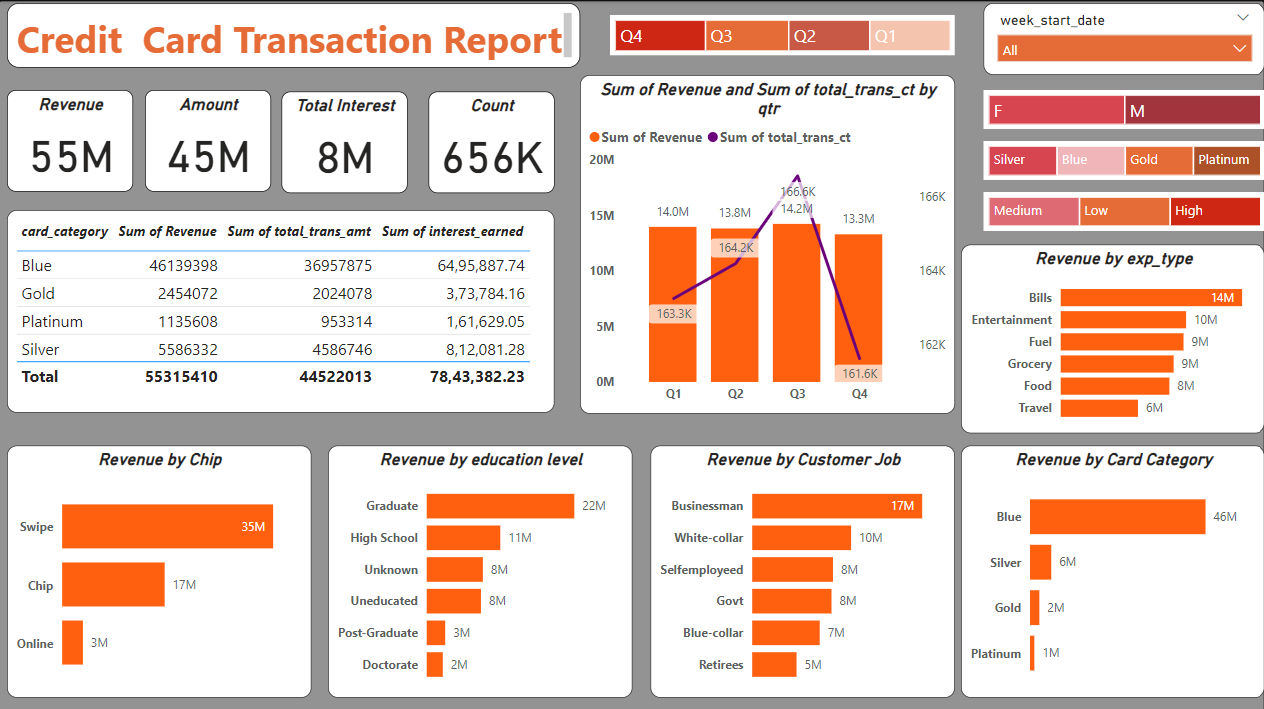

This screenshot's page, from the dashboard's own definition file:
{"tool":"powerbi","page":{"name":"CC transaction","canvas":[1280,720],"ordinal":1},"visuals":[{"type":"textbox","box":[9.1,3,578.4,65.1],"z":0},{"type":"lineStackedColumnComboChart","fields":{"Category":["public cc_detail.qtr"],"Y":["Sum(public cc_detail.Revenue)"],"Y2":["Sum(public cc_detail.total_trans_ct)"]},"box":[587.5,75.7,378.6,342.2],"z":1000},{"type":"barChart","title":"Revenue by exp_type","fields":{"Category":["public cc_detail.exp_type"],"Y":["Sum(public cc_detail.Revenue)"]},"box":[972.1,246.8,307.4,190.8],"z":2000},{"type":"barChart","title":"Revenue by education level","fields":{"Category":["public cust_detail.education_level"],"Y":["Sum(public cc_detail.Revenue)"]},"box":[333.1,449.7,307.4,254.4],"z":3000},{"type":"barChart","title":"Revenue by Customer Job","fields":{"Category":["public cust_detail.customer_job"],"Y":["Sum(public cc_detail.Revenue)"]},"box":[658.7,449.7,307.4,254.4],"z":4000},{"type":"barChart","title":"Revenue by Card Category","fields":{"Category":["public cc_detail.card_category"],"Y":["Sum(public cc_detail.Revenue)"]},"box":[972.1,449.7,307.4,254.4],"z":5000},{"type":"barChart","title":"Revenue by Chip","fields":{"Category":["public cc_detail.use_chip"],"Y":["Sum(public cc_detail.Revenue)"]},"box":[9.1,449.7,307,254.4],"z":6000},{"type":"tableEx","fields":{"Values":["public cc_detail.card_category","Sum(public cc_detail.Revenue)","Sum(public cc_detail.total_trans_amt)","Sum(public cc_detail.interest_earned)"]},"box":[9.1,212,552.7,204.4],"z":7000},{"type":"card","title":"Total Revenue","fields":{"Values":["Sum(public cc_detail.Revenue)"]},"box":[9.1,90.9,127.2,103],"z":8000},{"type":"card","title":"Transaction Amount","fields":{"Values":["Sum(public cc_detail.total_trans_amt)"]},"box":[148.4,90.9,127.2,103],"z":9000},{"type":"card","title":"Total Interest","fields":{"Values":["Sum(public cc_detail.interest_earned)"]},"box":[286.2,92.4,127.2,103],"z":11000},{"type":"card","title":"Transaction Count","fields":{"Values":["Sum(public cc_detail.total_trans_ct)"]},"box":[434.6,92.4,127.2,103],"z":12000},{"type":"slicer","fields":{"Values":["public cc_detail.week_start_date"]},"box":[994.8,3,284.7,72.7],"z":13000},{"type":"treemap","fields":{"Group":["public cc_detail.qtr"],"Values":["Avg(public cc_detail.client_num)"]},"box":[617.8,15.1,348.3,40.9],"z":14000},{"type":"treemap","fields":{"Values":["Avg(public cc_detail.client_num)"],"Group":["public cust_detail.gender"]},"box":[994.8,90.9,284.7,39.4],"z":15000},{"type":"treemap","fields":{"Values":["Avg(public cc_detail.client_num)"],"Group":["public cc_detail.card_category"]},"box":[994.8,142.3,284.7,39.4],"z":16000},{"type":"treemap","fields":{"Values":["Avg(public cc_detail.client_num)"],"Group":["public cust_detail.IncomeGroup"]},"box":[994.8,193.8,284.7,39],"z":17000}]}

Visuals, with their boxes in screenshot pixels (x1, y1, x2, y2), scaled from the page's 1280x720 canvas onto the 1264x709 screenshot:
textbox: bbox=(9, 3, 580, 67)
lineStackedColumnComboChart - public cc_detail.qtr x Sum(public cc_detail.Revenue): bbox=(580, 75, 954, 412)
"Revenue by exp_type" barChart: bbox=(960, 243, 1263, 431)
"Revenue by education level" barChart: bbox=(329, 443, 632, 693)
"Revenue by Customer Job" barChart: bbox=(650, 443, 954, 693)
"Revenue by Card Category" barChart: bbox=(960, 443, 1263, 693)
"Revenue by Chip" barChart: bbox=(9, 443, 312, 693)
tableEx - public cc_detail.card_category x Sum(public cc_detail.Revenue): bbox=(9, 209, 555, 410)
"Total Revenue" card: bbox=(9, 90, 135, 191)
"Transaction Amount" card: bbox=(147, 90, 272, 191)
"Total Interest" card: bbox=(283, 91, 408, 192)
"Transaction Count" card: bbox=(429, 91, 555, 192)
slicer - public cc_detail.week_start_date: bbox=(982, 3, 1263, 75)
treemap - public cc_detail.qtr x Avg(public cc_detail.client_num): bbox=(610, 15, 954, 55)
treemap - Avg(public cc_detail.client_num) x public cust_detail.gender: bbox=(982, 90, 1263, 128)
treemap - Avg(public cc_detail.client_num) x public cc_detail.card_category: bbox=(982, 140, 1263, 179)
treemap - Avg(public cc_detail.client_num) x public cust_detail.IncomeGroup: bbox=(982, 191, 1263, 229)
